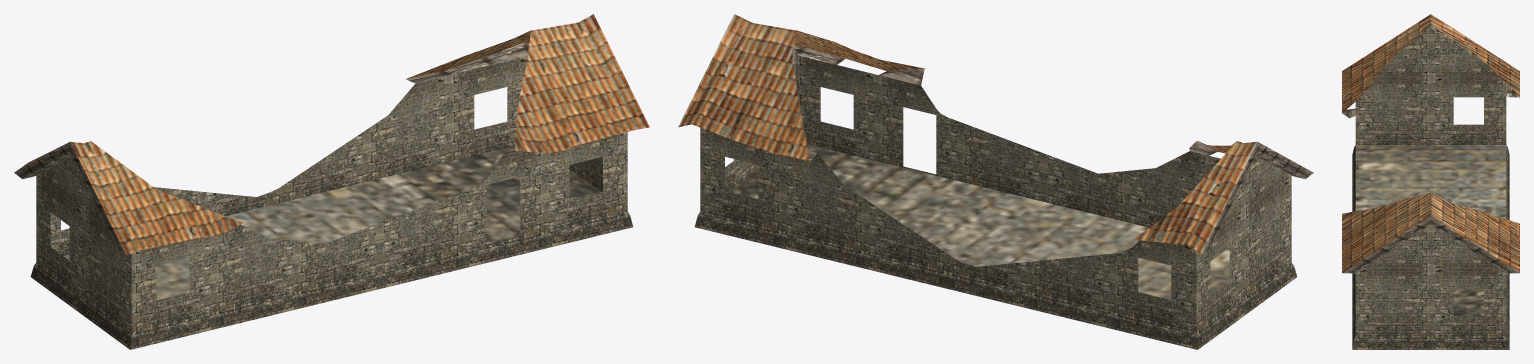
File: s44_b_house_1_3_destroyed_1.dae
3 renders of one model, left to right at view 1: azimuth 30°, elevation 25°; view 2: azimuth 150°, elevation 25°; view 3: azimuth 270°, elevation 25°, orthographic. The views are drawn at different scales.
Parts seen in each view (by area): view 1: s44_b_house_1_3; view 2: s44_b_house_1_3; view 3: s44_b_house_1_3.
Boxes of the visible parts, box(x1,y1,x2,y2) form: s44_b_house_1_3: box(14, 14, 649, 349); s44_b_house_1_3: box(678, 14, 1313, 349); s44_b_house_1_3: box(1342, 14, 1519, 349).
Bounding box in the file's own units: 152 × 56.55 × 48.36.
1 material, 1 textured.
